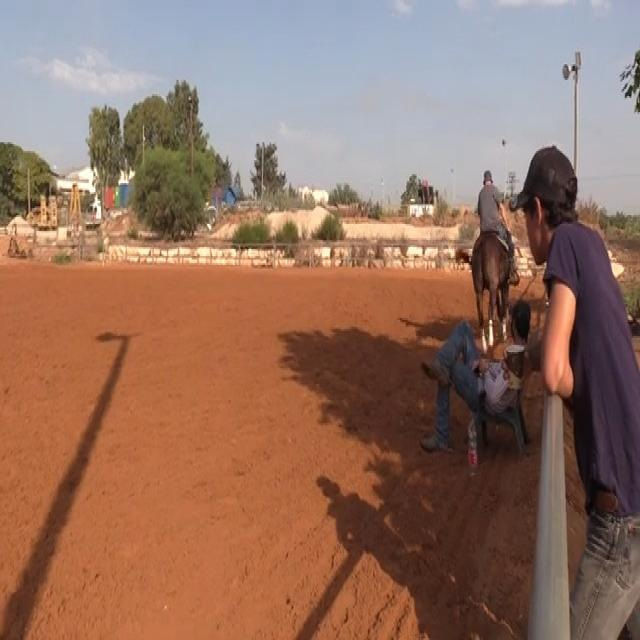horse: (469, 222, 513, 352)
